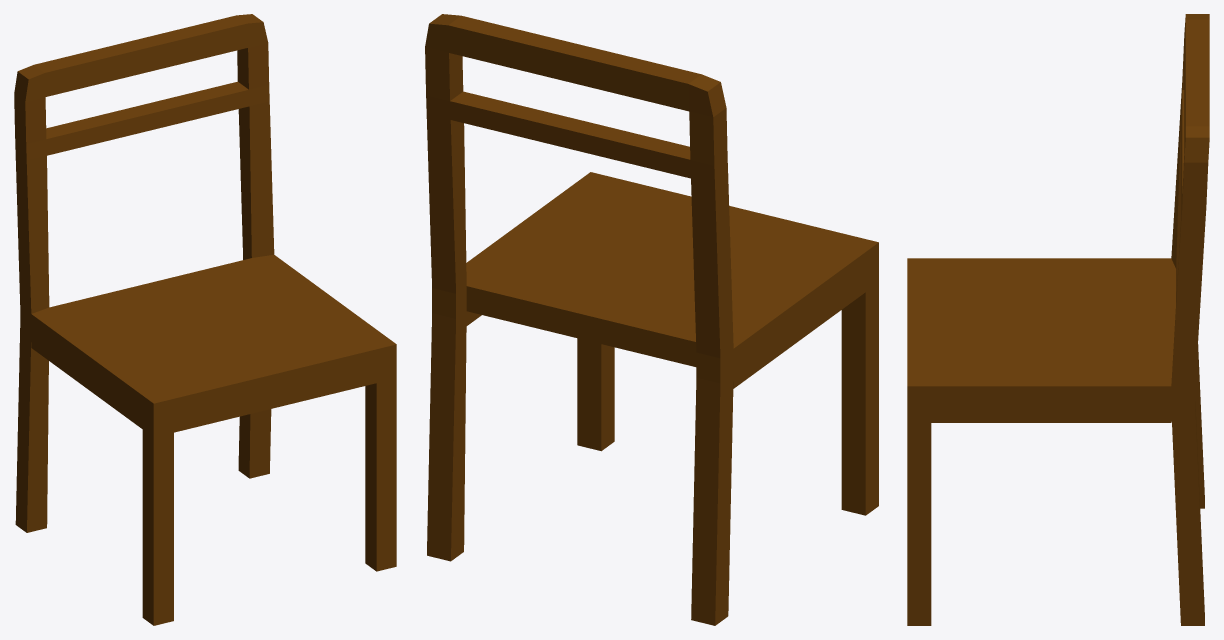
The model's file is DinnerChair.fbx.
3 renders of one model, left to right at view 1: azimuth 30°, elevation 25°; view 2: azimuth 150°, elevation 25°; view 3: azimuth 270°, elevation 25°, orthographic. The views are drawn at different scales.
Visible parts, largest first — view 1: DinnerChair_2; view 2: DinnerChair_2; view 3: DinnerChair_2.
Boxes of the visible parts, left/top/right/bottom form: DinnerChair_2: left=14, top=14, right=396, bottom=625; DinnerChair_2: left=425, top=14, right=878, bottom=625; DinnerChair_2: left=907, top=14, right=1209, bottom=625.
Bounding box in the file's own units: 63 × 112 × 63.
